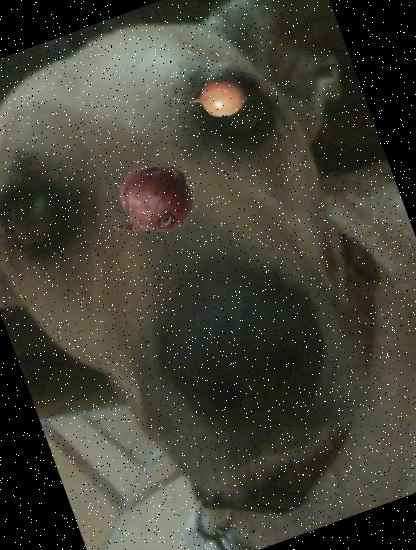Granadilla: (182, 60, 255, 134)
Onion: (101, 150, 206, 256)
